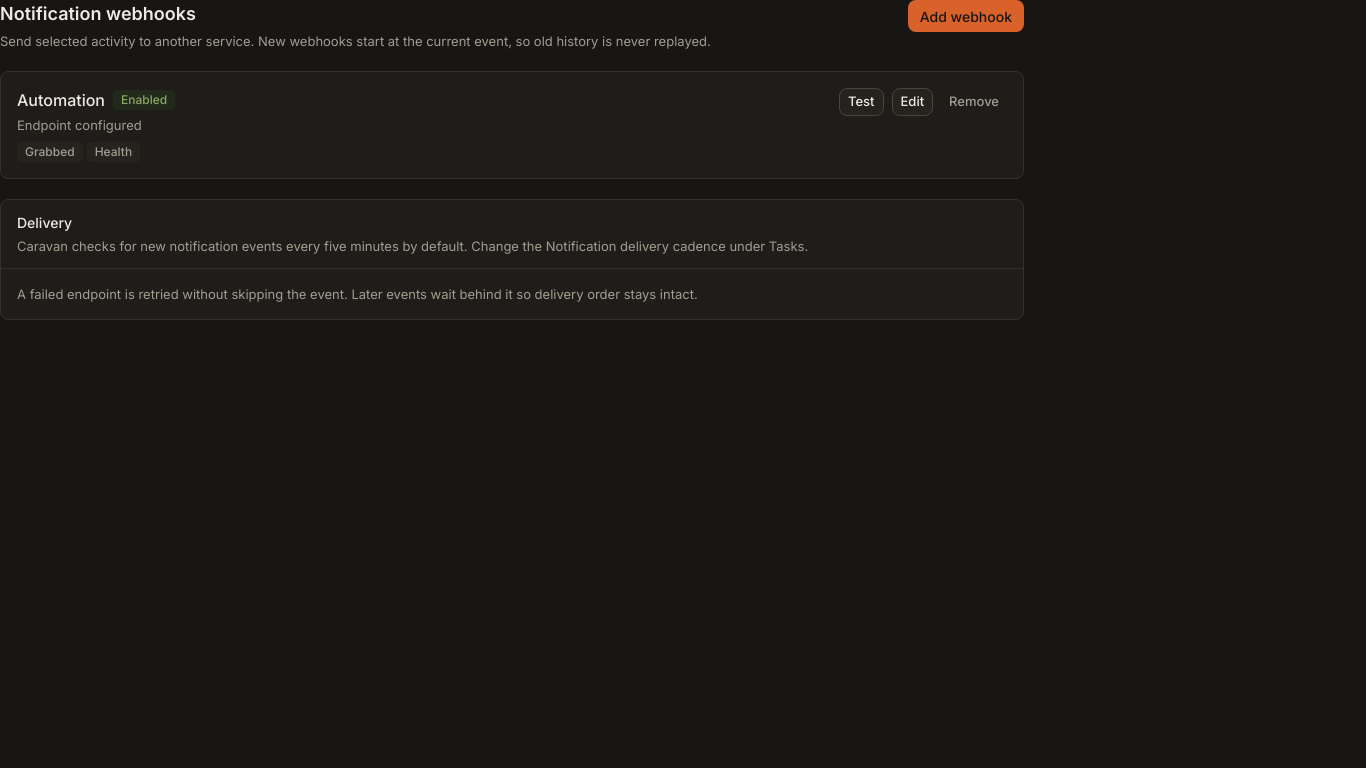
Test case: Notification settings › validates the URL and creates a webhook with explicit event switches
Click the button "Add webhook".
click(966, 16)  # box [908,0,1024,32]
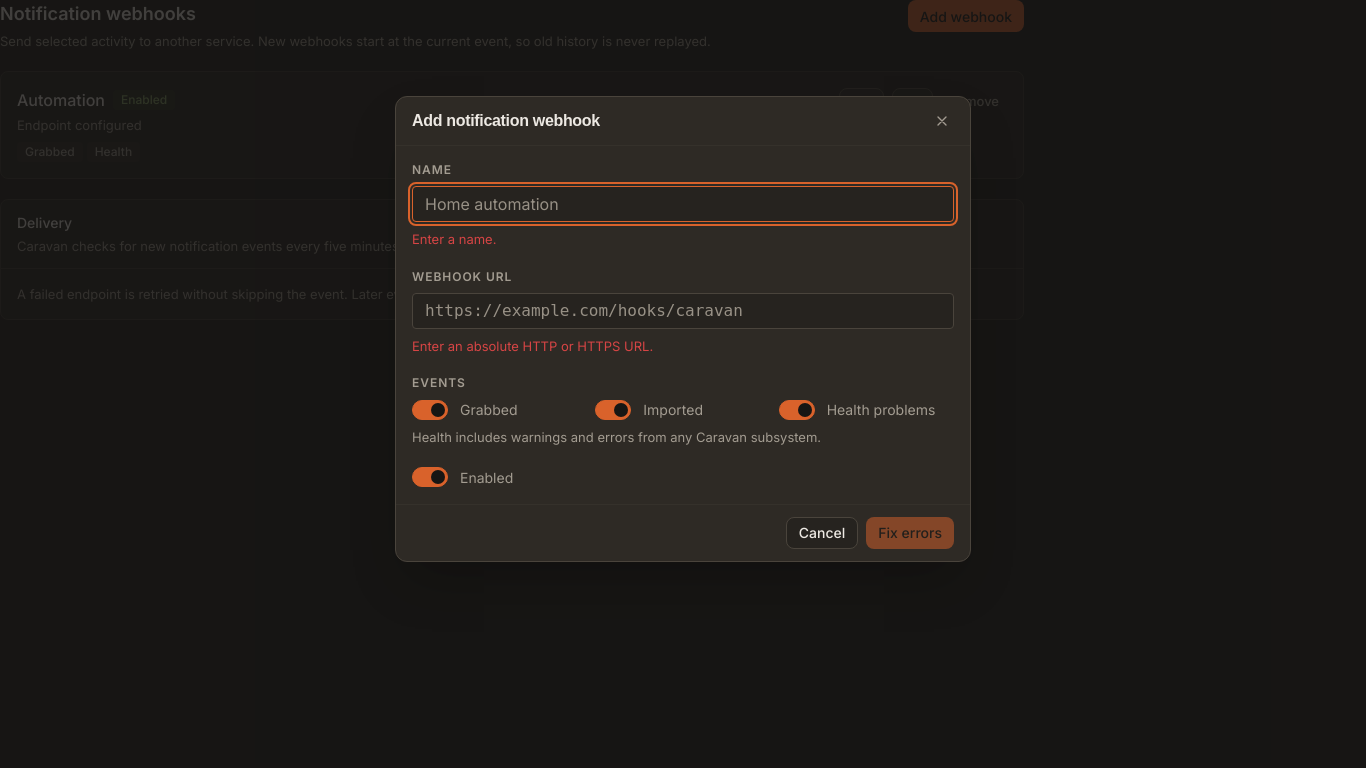
Type "  Media room  " into the field labelled "Name".
click(683, 204); type("  Media room  ")  # box [412,186,954,222]
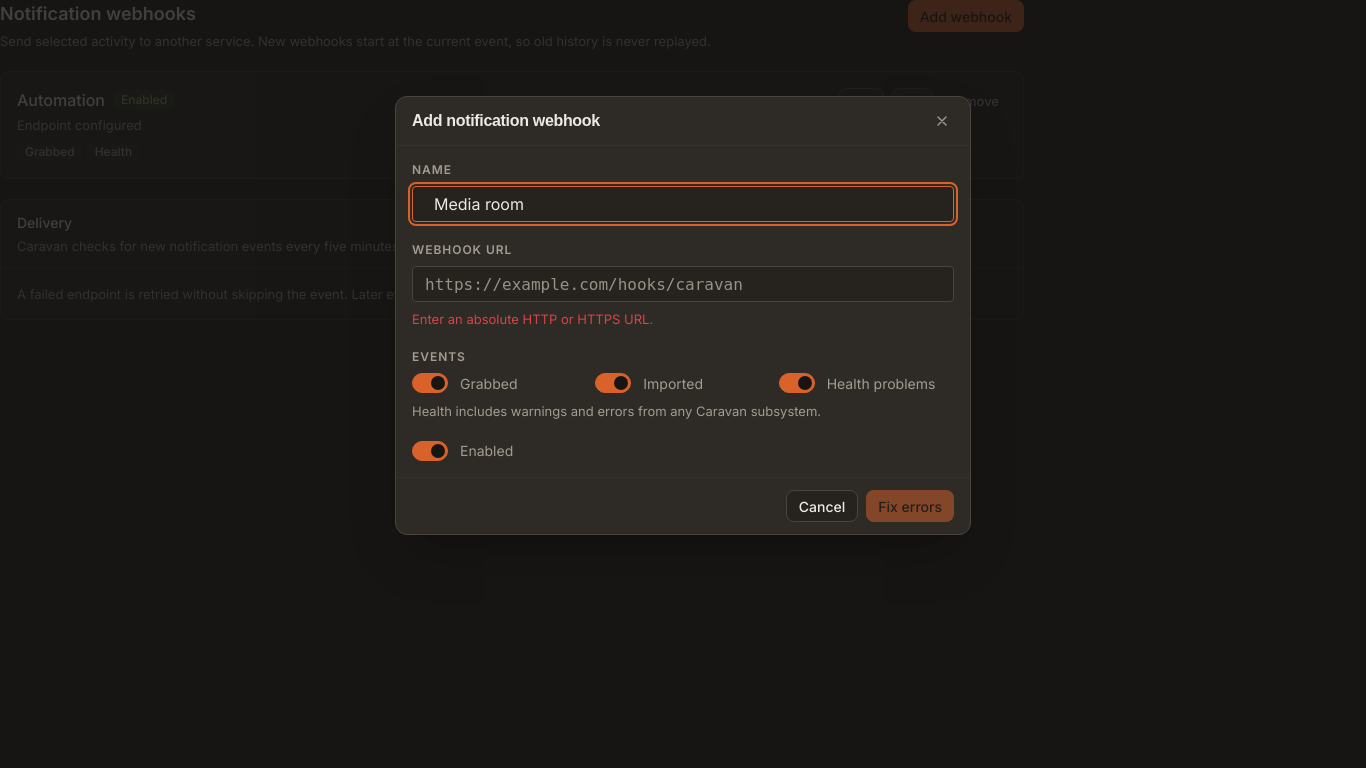
expect the field with id "notification-url" is shown: met
Type "file:///tmp/hook" into the field with id "notification-url".
click(683, 284); type("file:///tmp/hook")  # box [412,266,954,302]
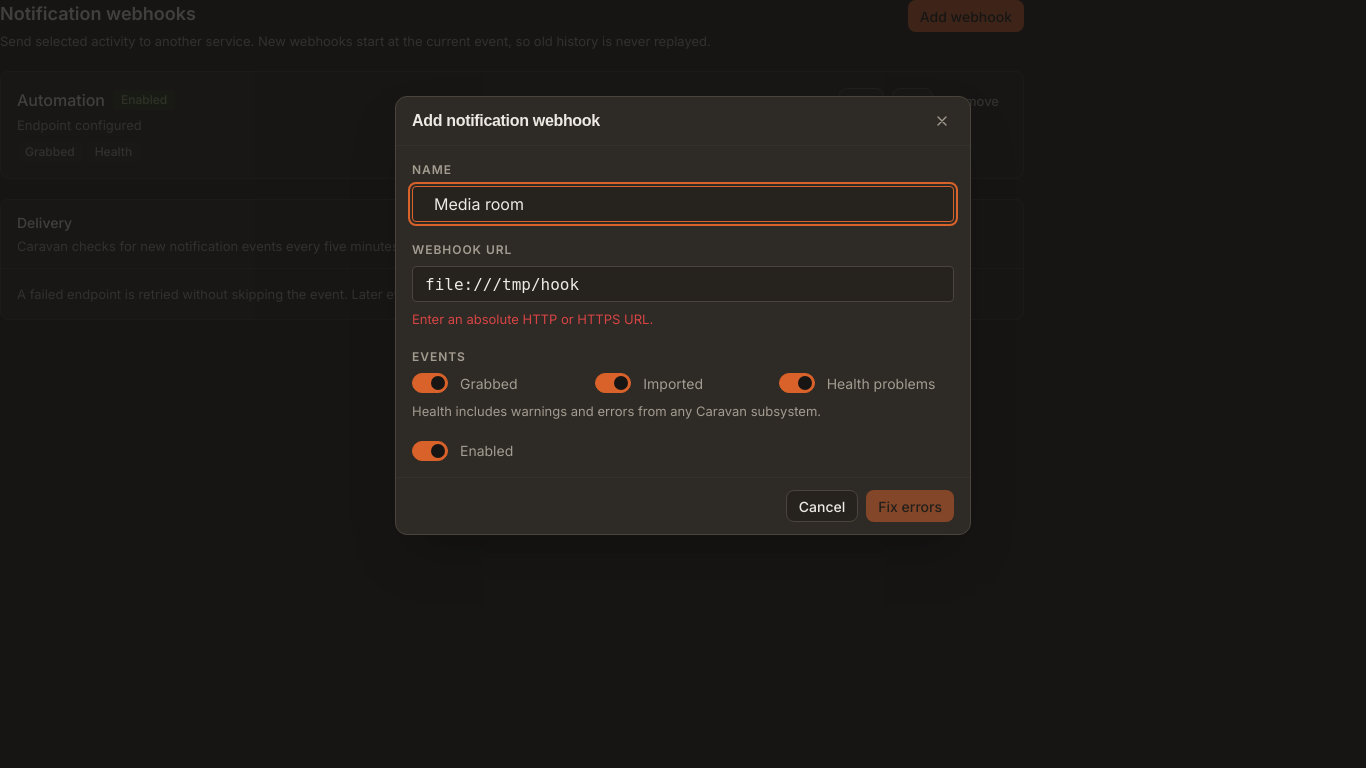
expect the text "Enter an absolute HTTP or HTTPS URL." is shown: met, box [412,311,653,327]
expect the button "Fix errors" is disabled: met, box [866,490,954,522]
Replace the text in the field with id "notification-url" with "https://events.example/hook" at (683, 284), box [412,266,954,302]
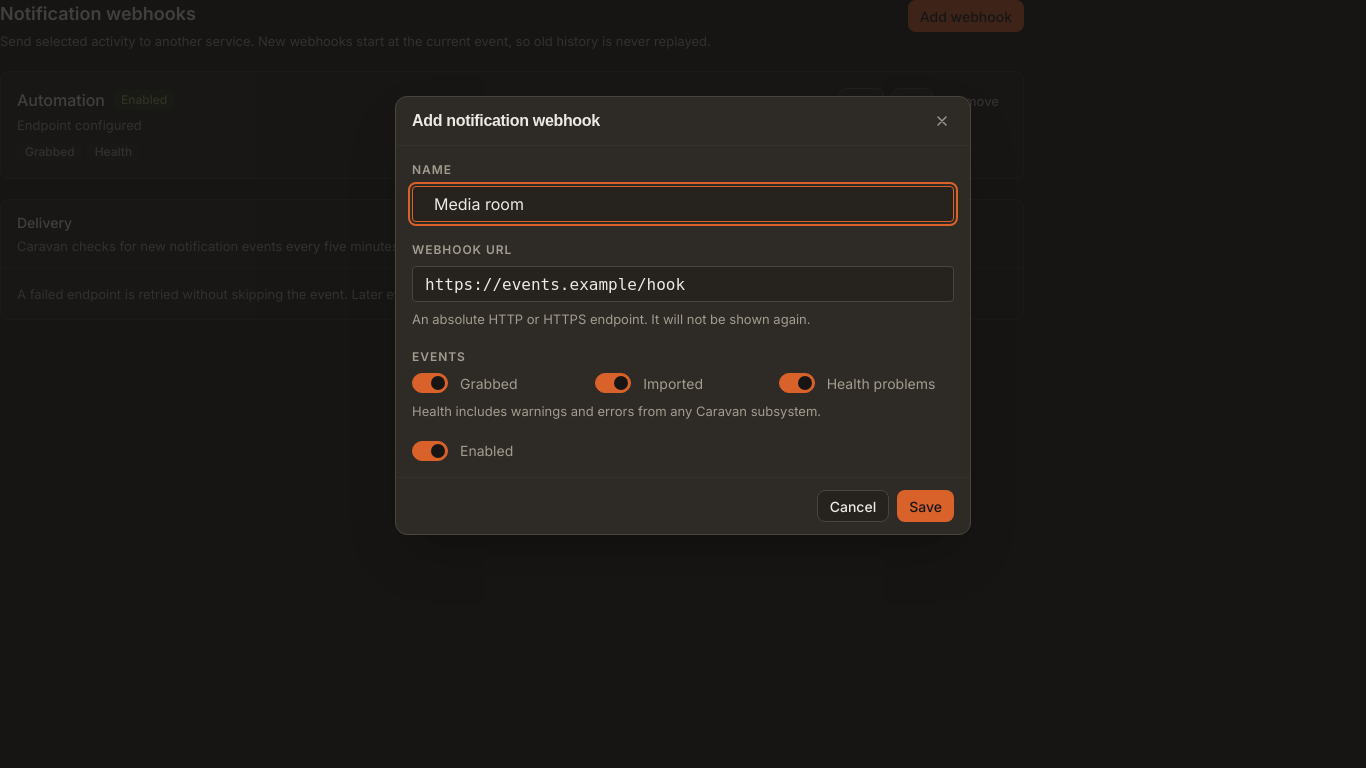
expect the button "Save" is shown: met
Click the button "Save".
click(926, 506)  # box [897,490,954,522]
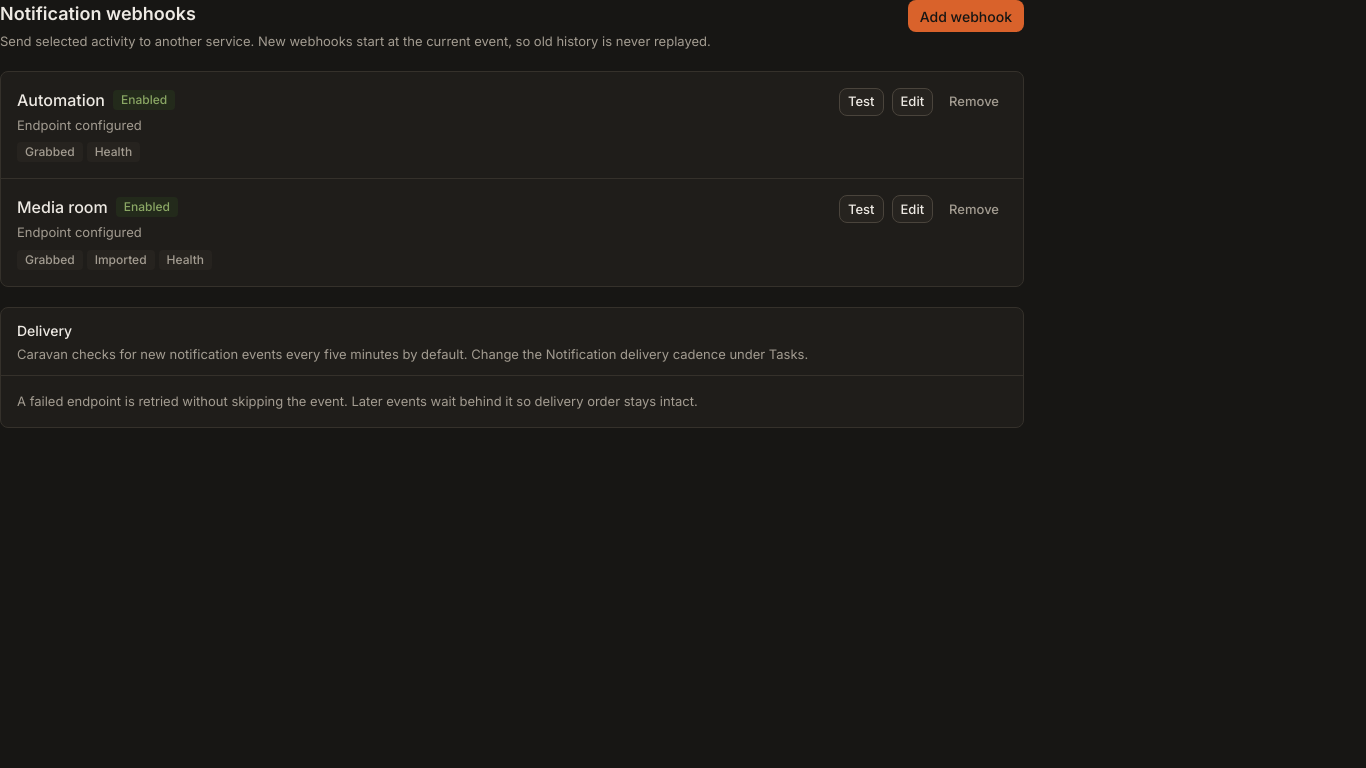
expect the text "Media room" is shown: met, box [17,195,108,219]
